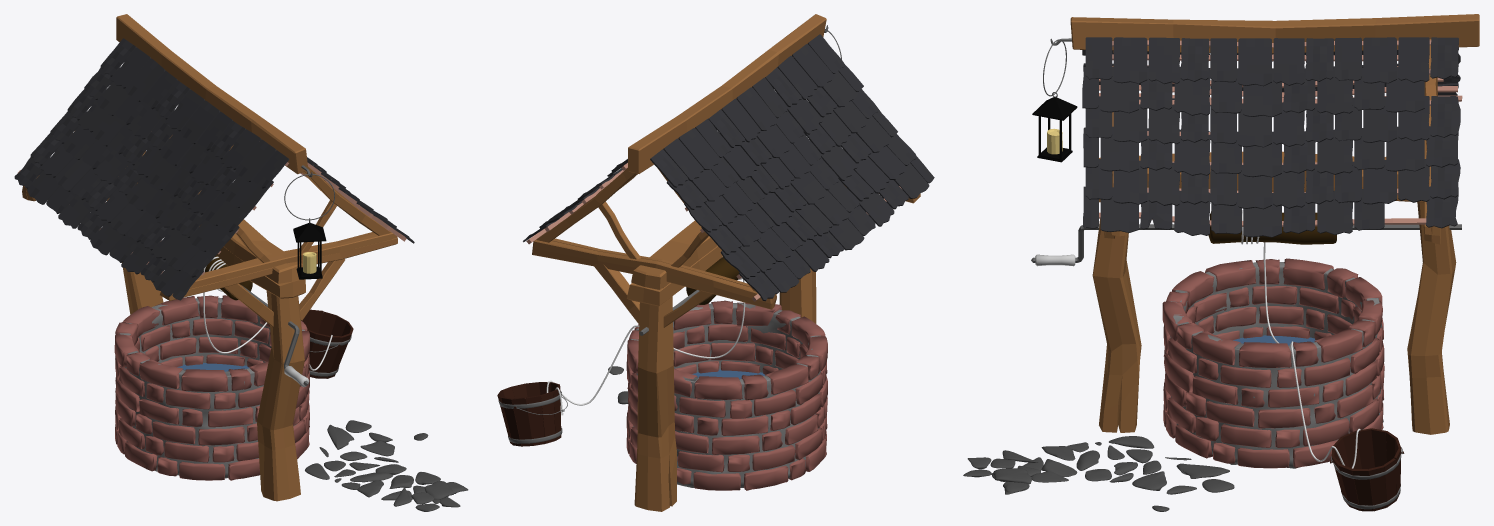
The model's file is WELL.fbx.
3 views of the same model, side by side, from view 1: azimuth 30°, elevation 25°; view 2: azimuth 150°, elevation 25°; view 3: azimuth 270°, elevation 25° (orthographic). The views are drawn at different scales.
Parts seen in each view (by area): view 1: BucketBold; view 2: BucketBold, Rope; view 3: BucketBold, Rope.
Part boxes in pixels (x1,y1,x2,y2): BucketBold: (14,14,468,511); BucketBold: (497,14,934,511); Rope: (546,278,745,415); BucketBold: (963,14,1479,511); Rope: (1241,210,1360,468).
Size of the model in its own units: 974 by 1122 by 1286.
